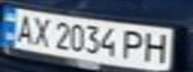0: (66, 21, 87, 53)
2: (51, 18, 72, 52)
3: (84, 22, 103, 56)
4: (100, 25, 121, 60)
A: (9, 11, 39, 44)
H: (139, 29, 175, 64)
P: (118, 28, 148, 62)
X: (27, 15, 54, 47)
